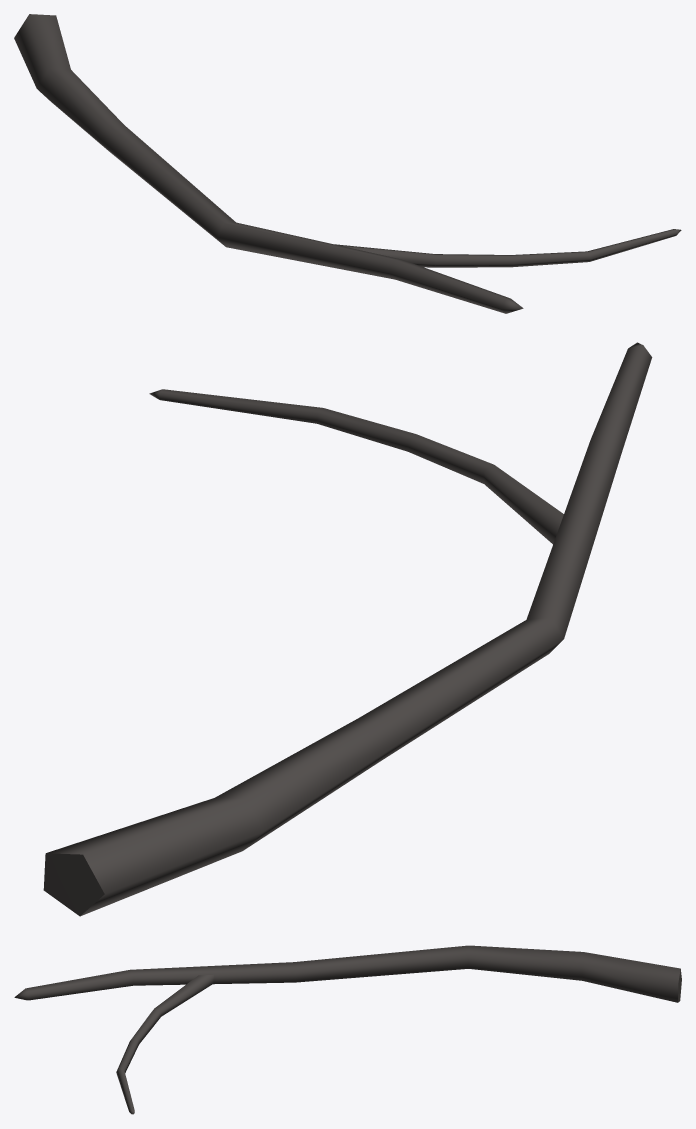
Rendered from P_branch_dead_03_LD.fbx.
3 renders of one model, top to bottom at view 1: azimuth 30°, elevation 25°; view 2: azimuth 150°, elevation 25°; view 3: azimuth 270°, elevation 25°, orthographic. The views are drawn at different scales.
Visible parts, largest first — view 1: P_branch_dead_03; view 2: P_branch_dead_03; view 3: P_branch_dead_03.
Part boxes in pixels (x1,y1,x2,y2): P_branch_dead_03: (14, 14, 681, 313); P_branch_dead_03: (43, 342, 652, 916); P_branch_dead_03: (14, 945, 681, 1114).
Size of the model in its own units: 47.64 by 5.71 by 94.34.
